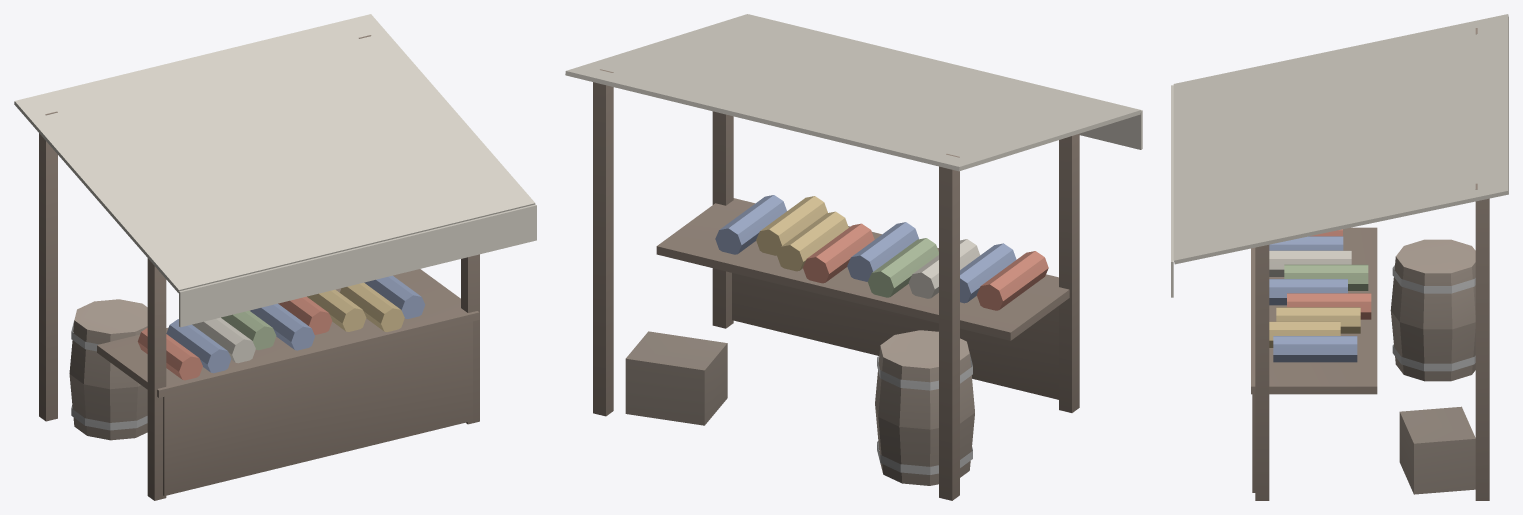
File: stall_3.glb
3 renders of one model, left to right at view 1: azimuth 30°, elevation 25°; view 2: azimuth 150°, elevation 25°; view 3: azimuth 270°, elevation 25°, orthographic. The views are drawn at different scales.
Visible parts, largest first — view 1: stall_3; view 2: stall_3; view 3: stall_3.
Boxes of the visible parts, x1=… form: stall_3: x1=14, y1=14, x2=536, y2=500; stall_3: x1=565, y1=14, x2=1142, y2=500; stall_3: x1=1171, y1=14, x2=1508, y2=500.
Bounding box in the file's own units: 2.98 × 2.5 × 2.41.
